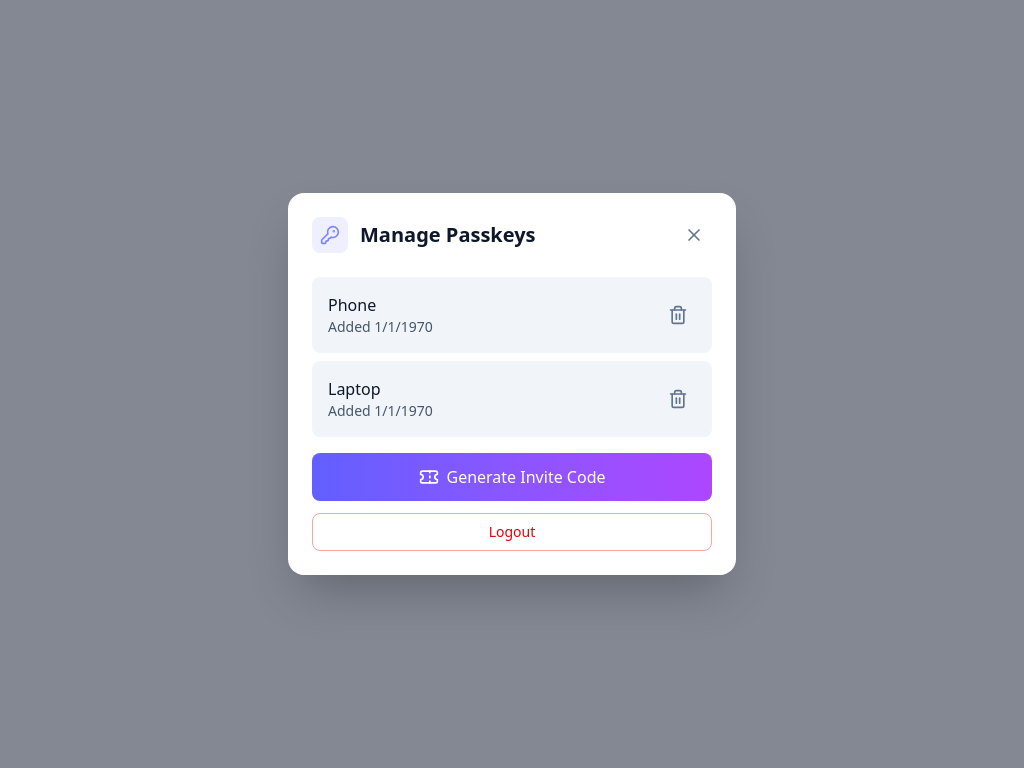
it: PasskeyManagement assembled behavior › executes credential revocation through the core and reports the resulting capability output
Click the button named "Remove" in the row of "Laptop".
click(678, 399)  # box [660,381,696,417]
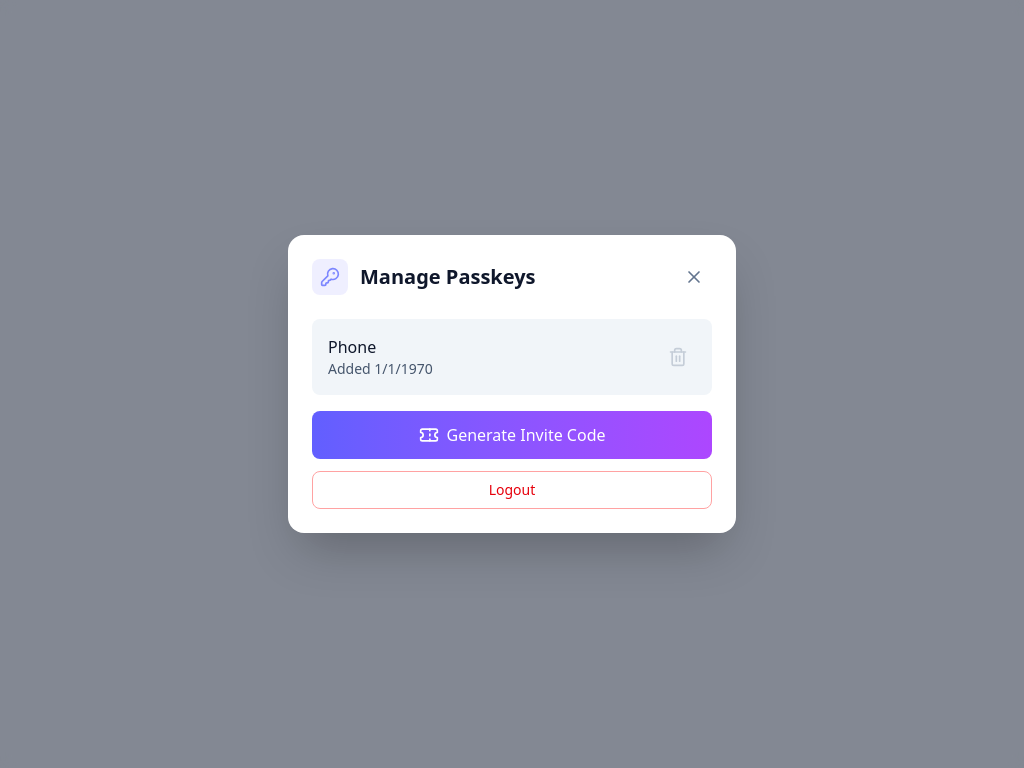
Now the text "Laptop" is gone
